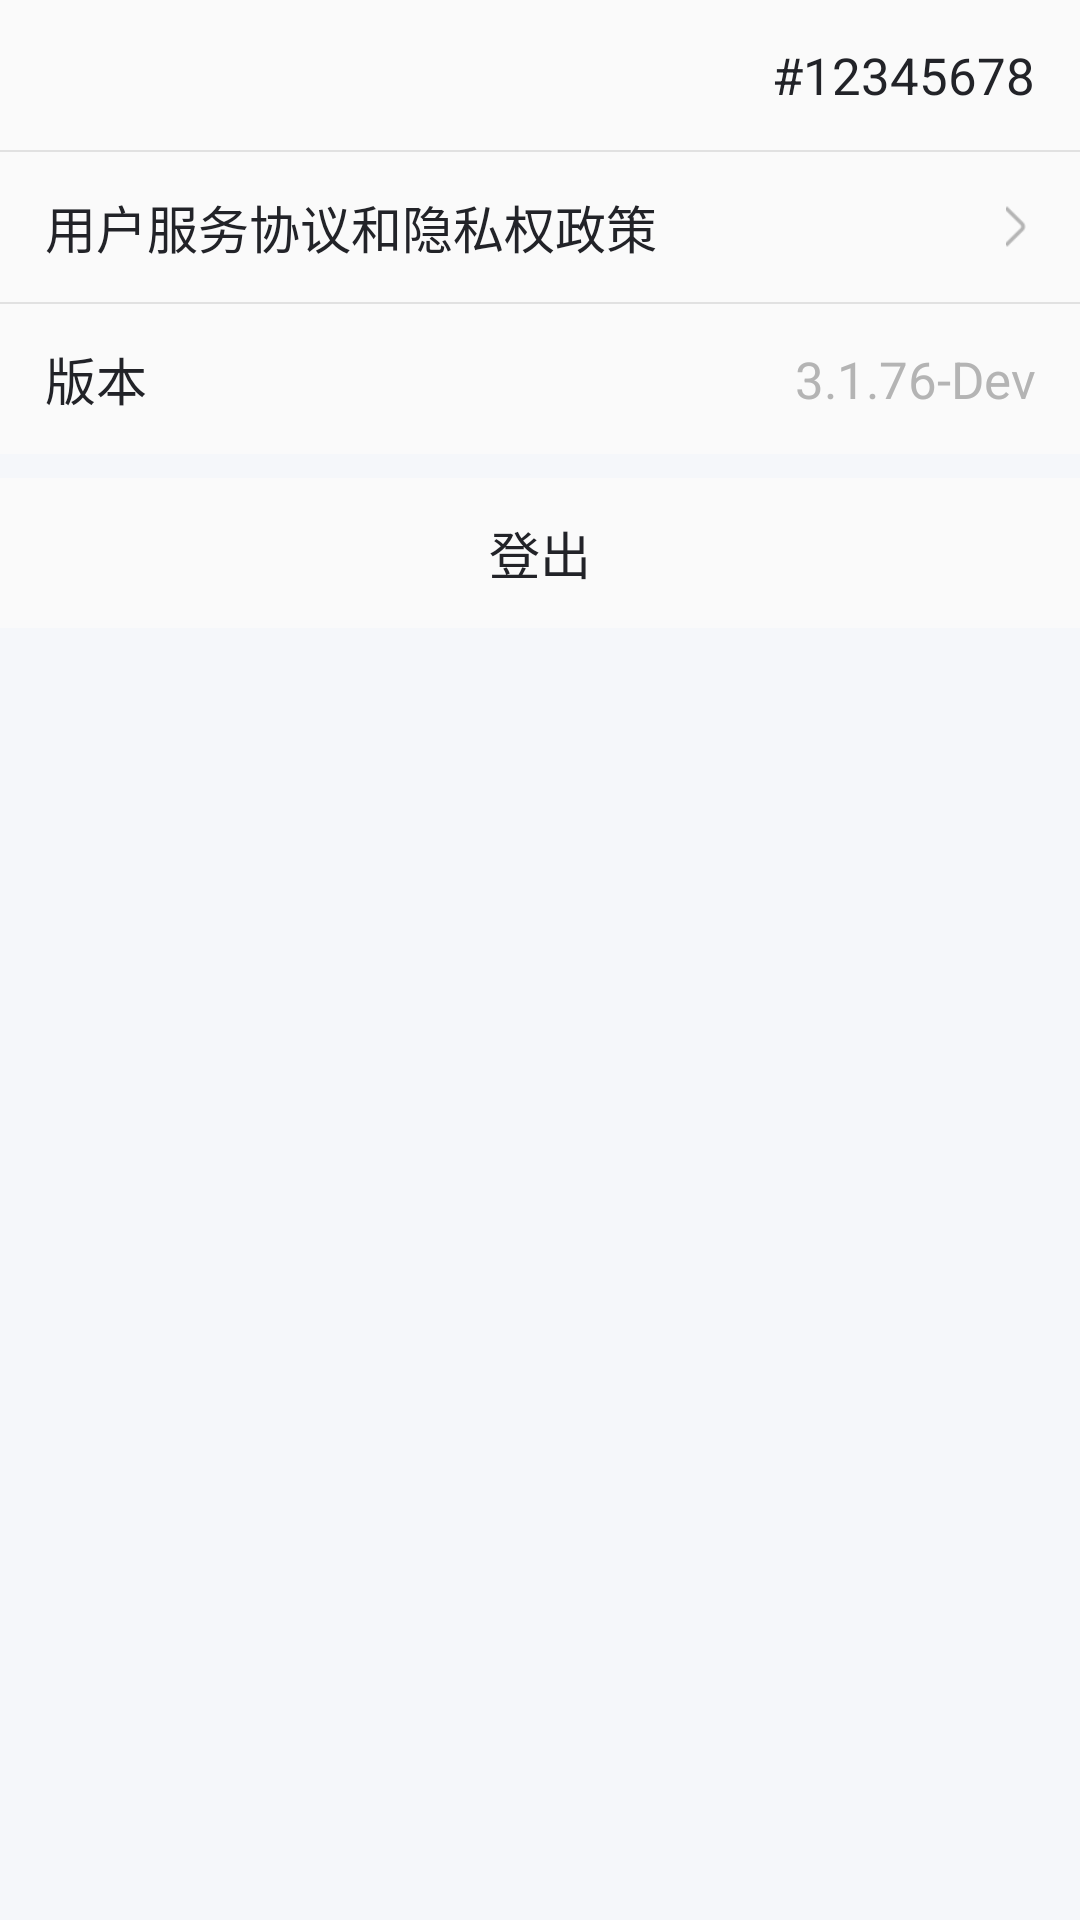

Icons on this 1080w x 1920h Android screen, each with the point to tap as (x=x, y=y):
right: (x=1015, y=226)
